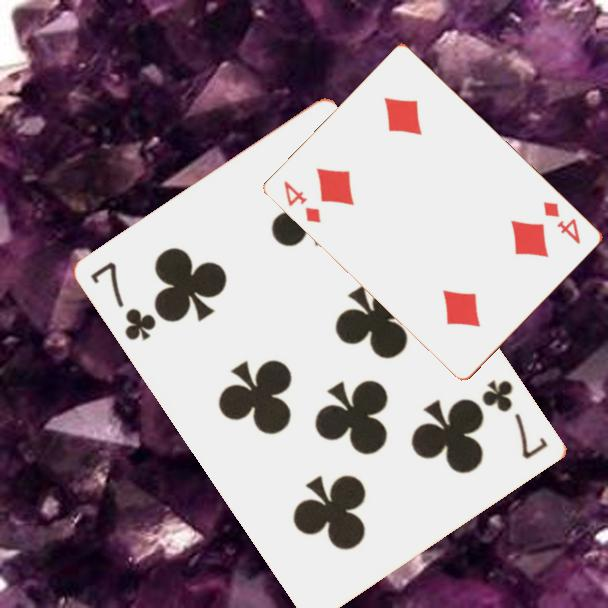c07: (478, 376, 552, 462), (87, 258, 160, 344)
d04: (540, 198, 584, 247), (281, 177, 324, 226)
